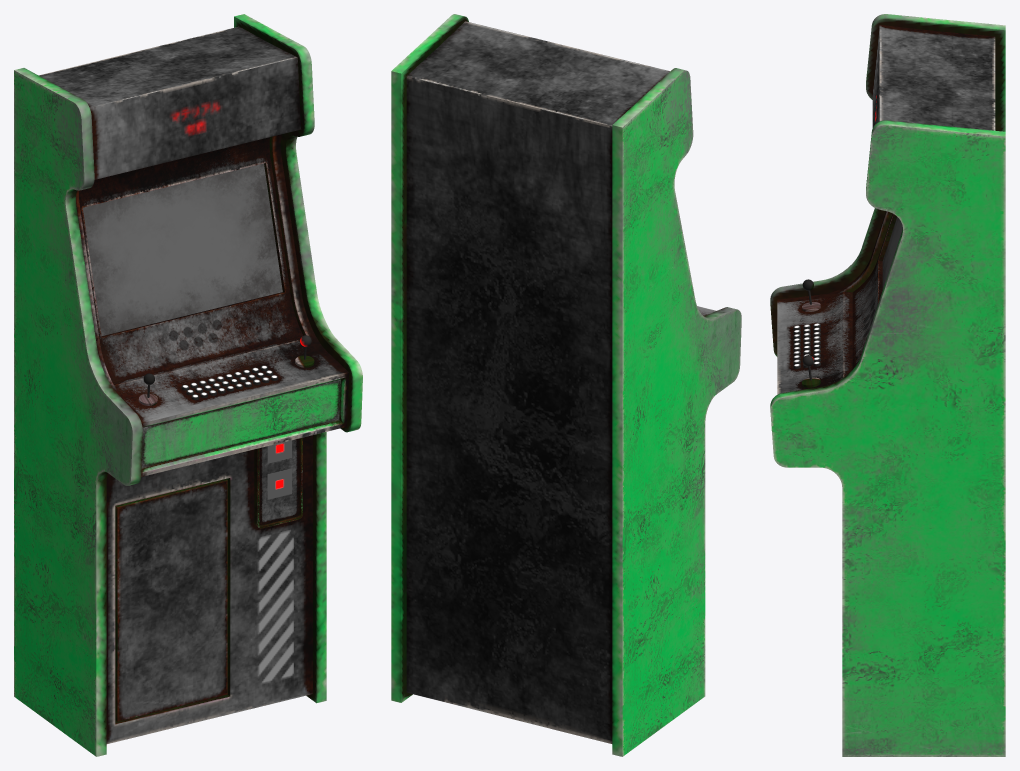
Rendered from arcade machine_green.fbx.
The picture shows the model from 3 angles, left to right: view 1: azimuth 30°, elevation 25°; view 2: azimuth 150°, elevation 25°; view 3: azimuth 270°, elevation 25°; orthographic projection.
Parts seen in each view (by area): view 1: arcade machine_green, Cube.001, Cylinder.002; view 2: arcade machine_green; view 3: arcade machine_green, Cylinder.002.
Boxes of the visible parts, x1,y1,x2,y2 form: arcade machine_green: [14, 14, 362, 756]; Cube.001: [254, 437, 302, 528]; Cylinder.002: [181, 365, 278, 400]; arcade machine_green: [391, 14, 741, 756]; arcade machine_green: [770, 14, 1005, 756]; Cylinder.002: [793, 323, 820, 368].
Size of the model in its own units: 97.76 by 259 by 87.31.
Materials: 1 (1 with a texture image).
